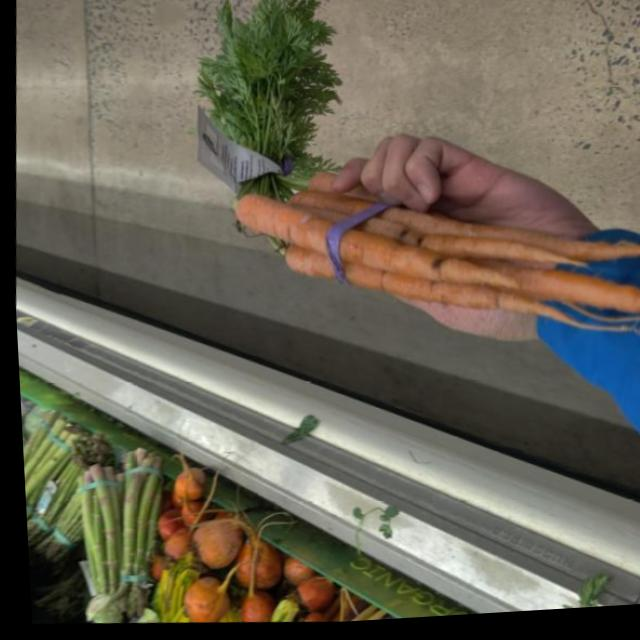Carrots: (159, 0, 640, 341)
